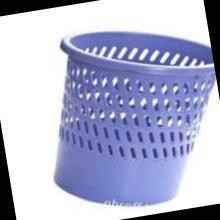Bote de Basura: (36, 15, 220, 220)
